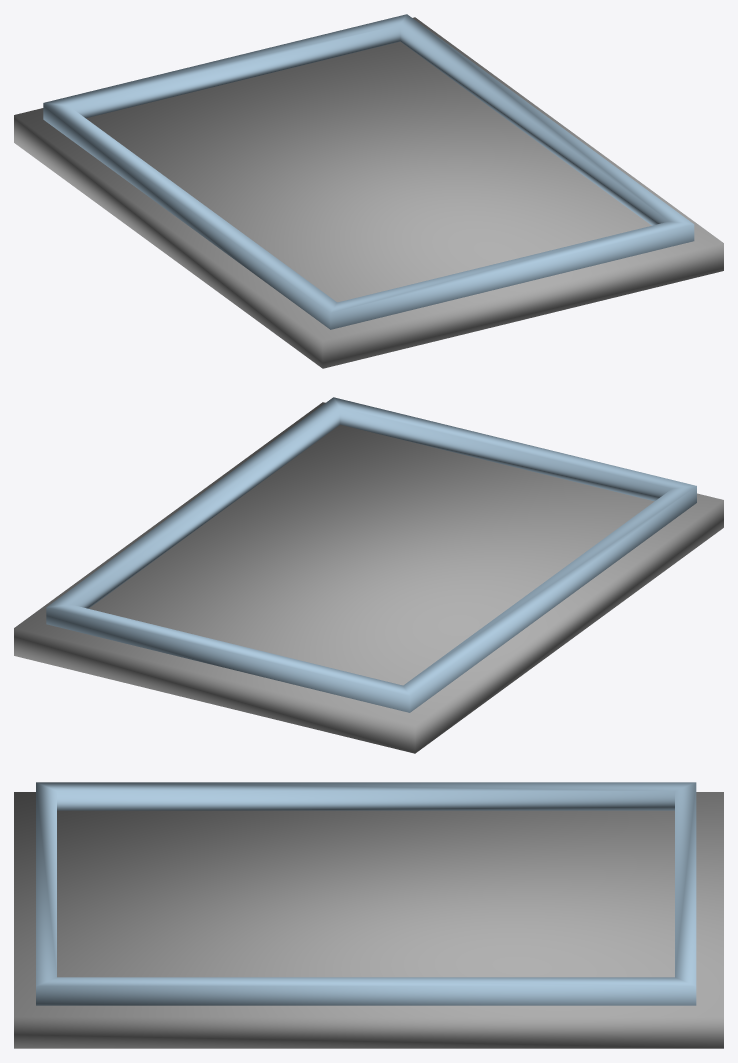
The model's file is board.FBX.
3 views of the same model, one above another, from view 1: azimuth 30°, elevation 25°; view 2: azimuth 150°, elevation 25°; view 3: azimuth 270°, elevation 25° (orthographic). The views are drawn at different scales.
Parts seen in each view (by area): view 1: Box002, Rectangle001; view 2: Box002, Rectangle001; view 3: Box002, Rectangle001.
Boxes of the visible parts, x1=… form: Box002: x1=14, y1=17, x2=723, y2=368; Rectangle001: x1=43, y1=14, x2=694, y2=329; Box002: x1=14, y1=402, x2=723, y2=753; Rectangle001: x1=46, y1=397, x2=696, y2=712; Box002: x1=14, y1=792, x2=723, y2=1048; Rectangle001: x1=36, y1=782, x2=696, y2=1005.
Size of the model in its own units: 120 by 12.72 by 160.
